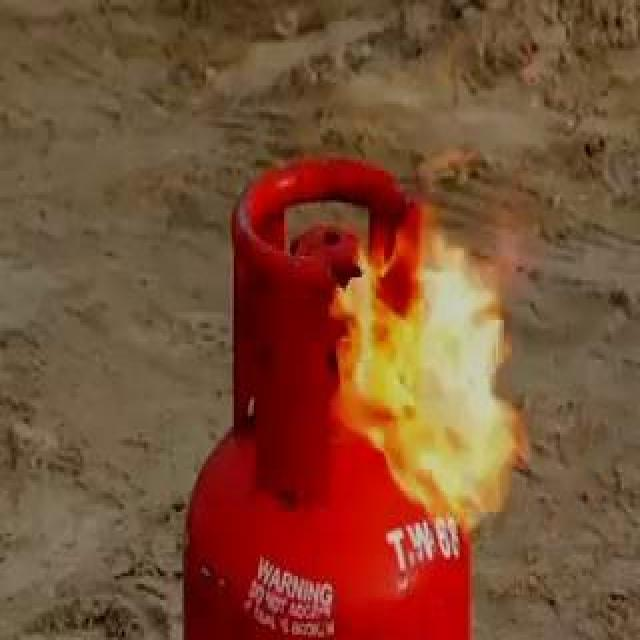Fire: (287, 21, 603, 507)
